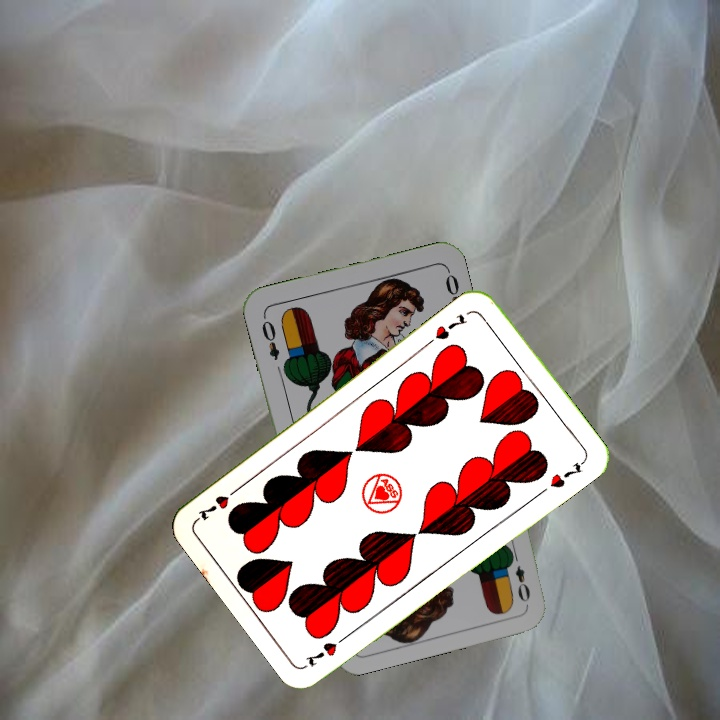EO: (506, 547, 533, 605), (257, 311, 282, 363)
H7: (301, 629, 353, 670), (431, 309, 470, 343)
